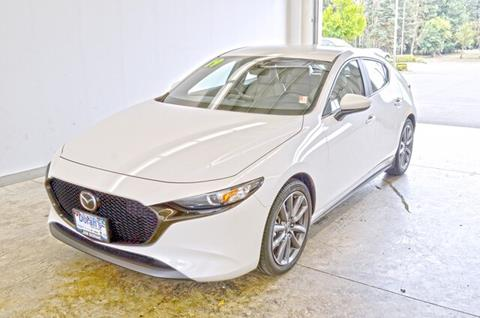Mazda3 Hatchback: (43, 44, 418, 284)
